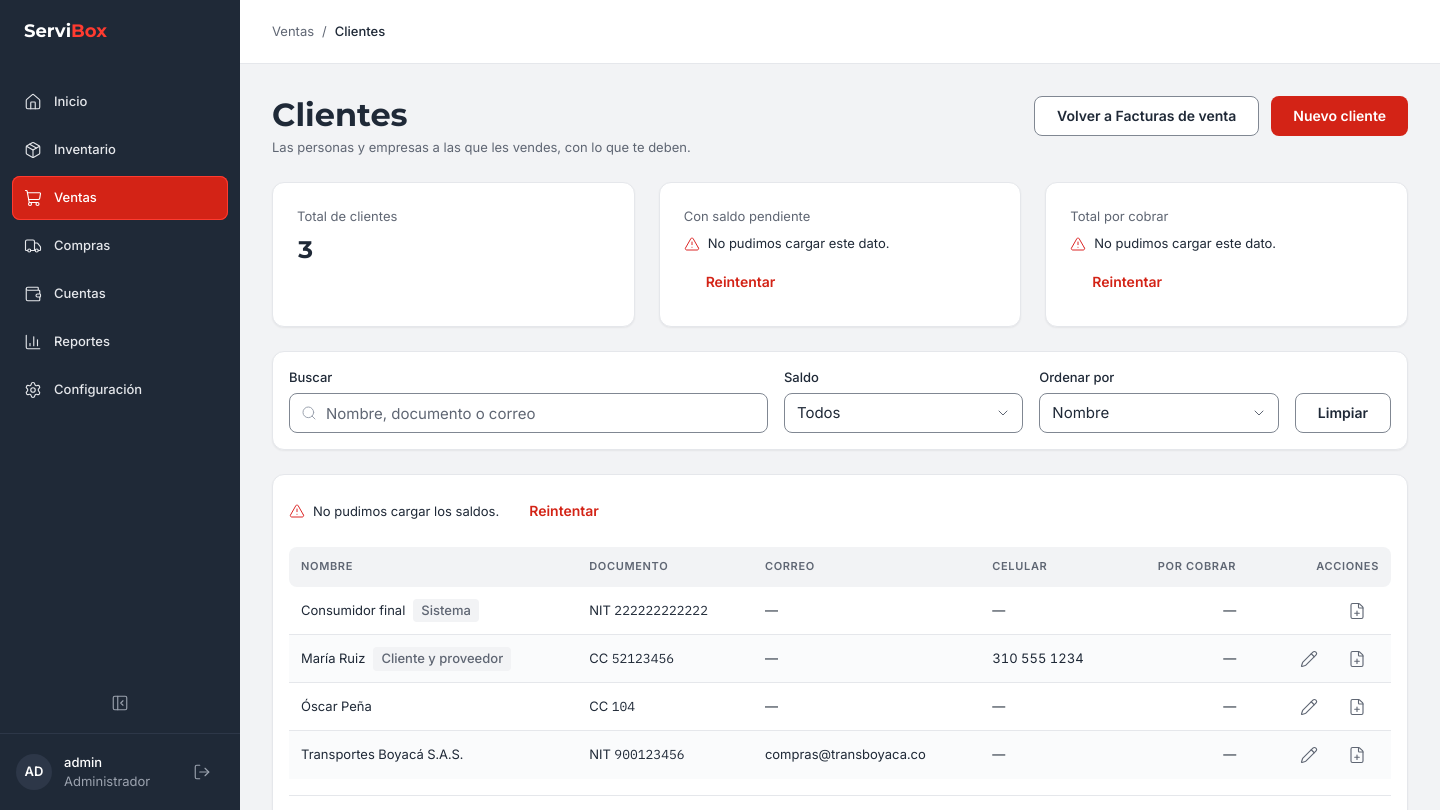
it: Clientes › si fallan solo las facturas, la tabla sigue con el saldo en raya y un aviso con reintento
Expected: the heading "Clientes" is shown, [272, 95, 408, 134]
Expected: the text "No pudimos cargar los saldos." is shown, [313, 503, 499, 519]
Step 1. Click the button "Reintentar" next to "No pudimos cargar los saldos." → (564, 511), box [507, 491, 621, 531]
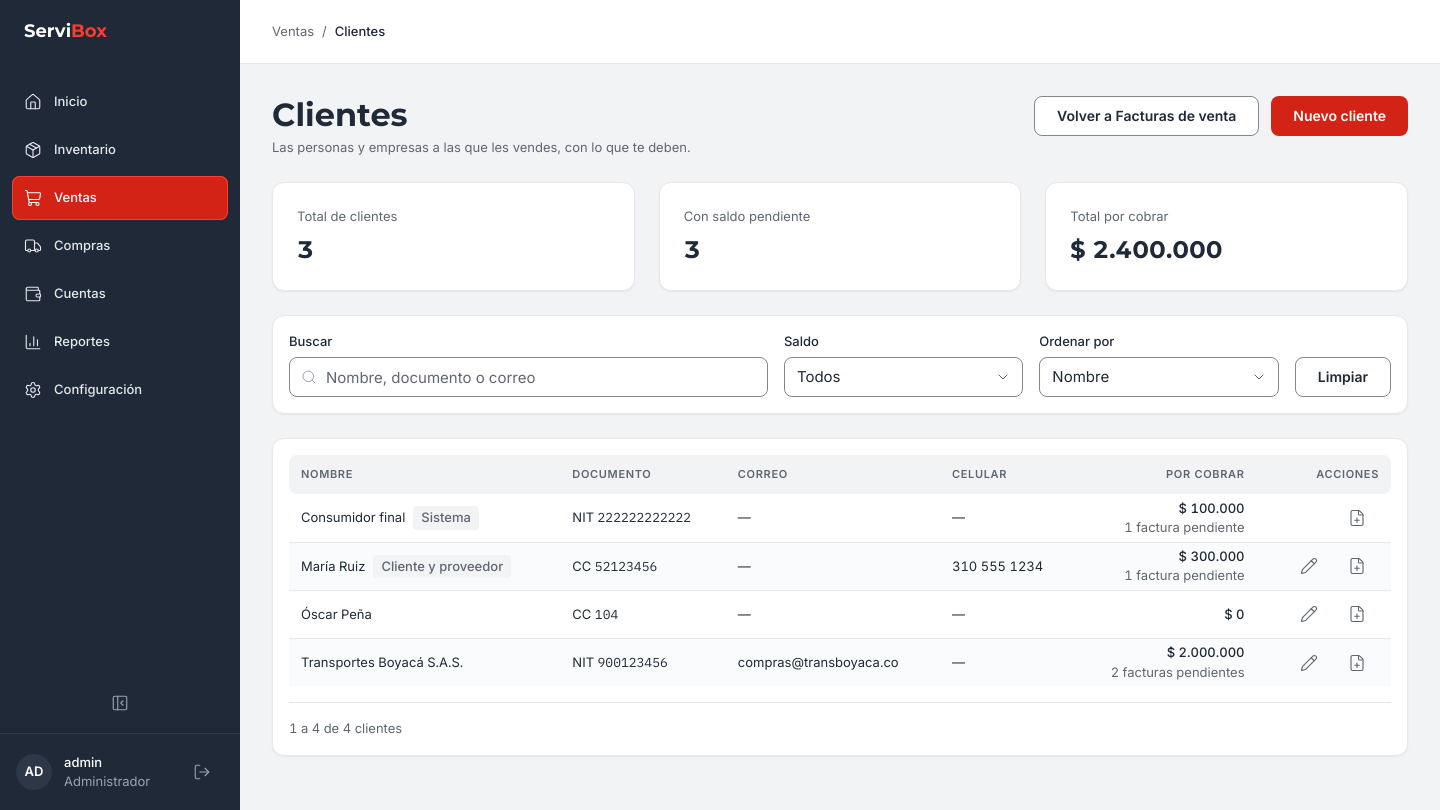
Result: the row that starts with "Transportes Boyacá S.A.S." shows "$ 2.000.000" at [1167, 644, 1244, 660]
Result: the text "No pudimos cargar los saldos." is gone
